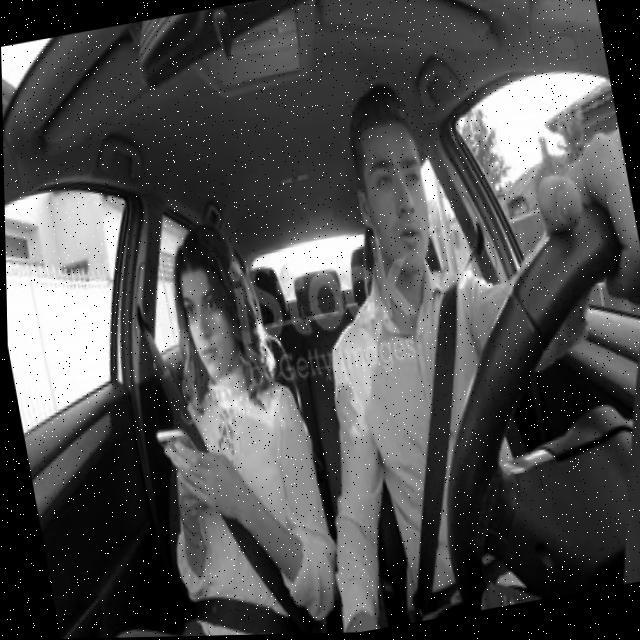PhoneCall: (154, 422, 202, 494)
